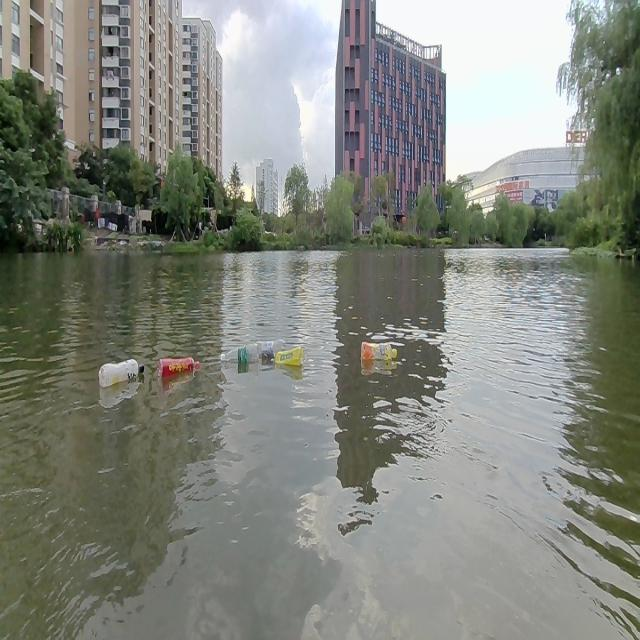bottle: (158, 357, 201, 388), (96, 361, 143, 387), (220, 343, 257, 372), (360, 335, 398, 363), (271, 343, 305, 373), (248, 335, 286, 359)
